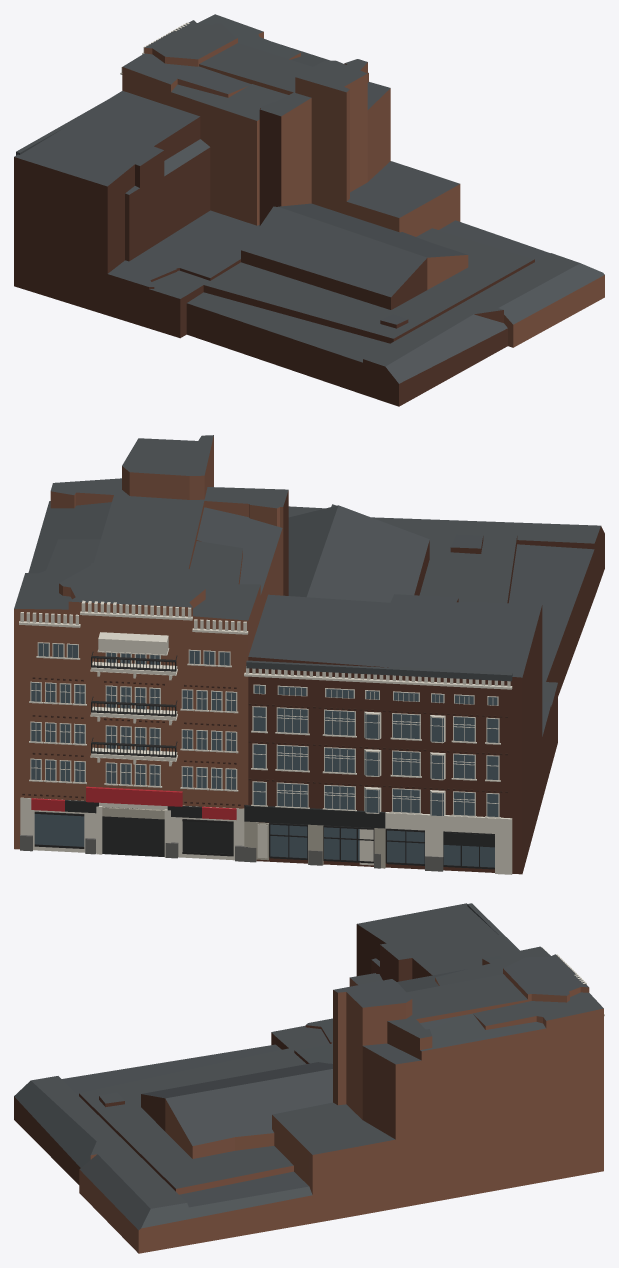
File: overtoom-197.glb
The picture shows the model from 3 angles, top to bottom: view 1: azimuth 30°, elevation 25°; view 2: azimuth 150°, elevation 25°; view 3: azimuth 270°, elevation 25°; orthographic projection. The views are drawn at different scales.
Parts seen in each view (by area): view 1: overtoom-197; view 2: overtoom-197; view 3: overtoom-197.
Part boxes in pixels (box(x1,y1,x2,y2)): overtoom-197: box(14, 14, 604, 406); overtoom-197: box(14, 435, 604, 874); overtoom-197: box(14, 903, 604, 1253).
Bounding box in the file's own units: 64.56 × 25.15 × 74.25.
